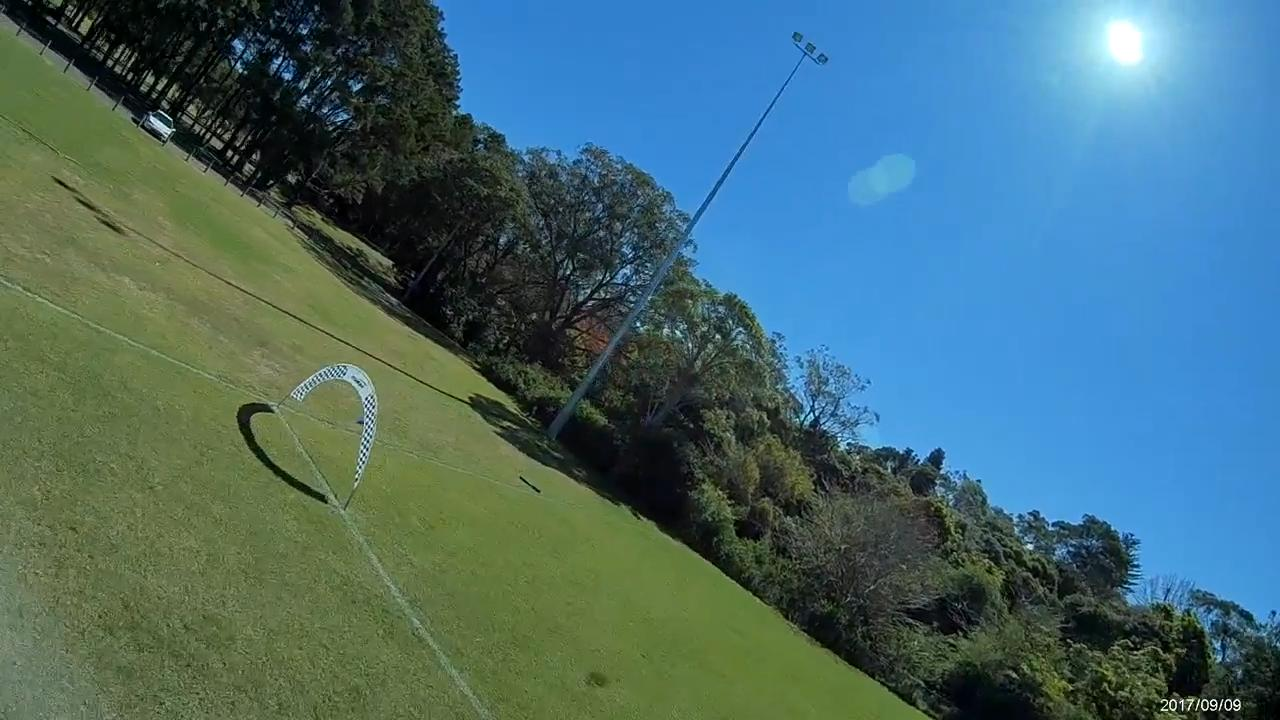gate: (291, 362, 380, 488)
